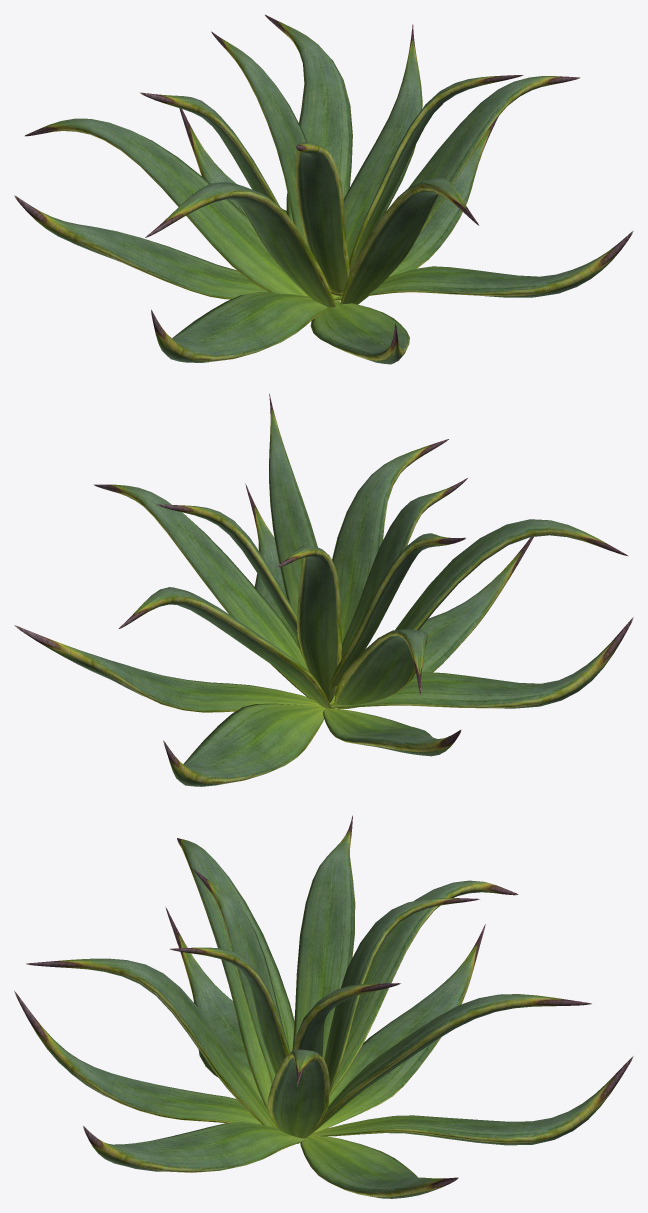
Rendered from desert-bush.glb.
The picture shows the model from 3 angles, top to bottom: view 1: azimuth 30°, elevation 25°; view 2: azimuth 150°, elevation 25°; view 3: azimuth 270°, elevation 25°; orthographic projection. The views are drawn at different scales.
Visible parts, largest first — view 1: ch1.desert-bush.001; view 2: ch1.desert-bush.001; view 3: ch1.desert-bush.001.
Part boxes in pixels (bbox=[...]): ch1.desert-bush.001: bbox=[14, 14, 633, 364]; ch1.desert-bush.001: bbox=[14, 393, 633, 786]; ch1.desert-bush.001: bbox=[14, 815, 633, 1198].
Bounding box in the file's own units: 1.06 × 0.5149 × 1.12.
Materials: 1 (1 with a texture image).
